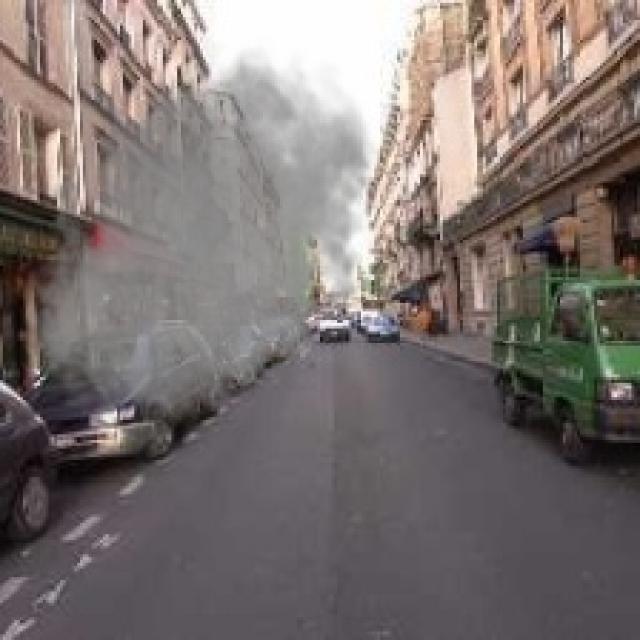Smoke: (28, 34, 383, 434)
